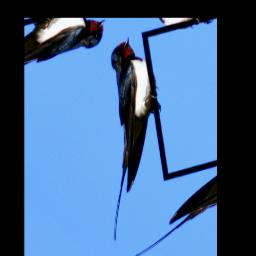Swallow: (35, 31, 203, 244)
